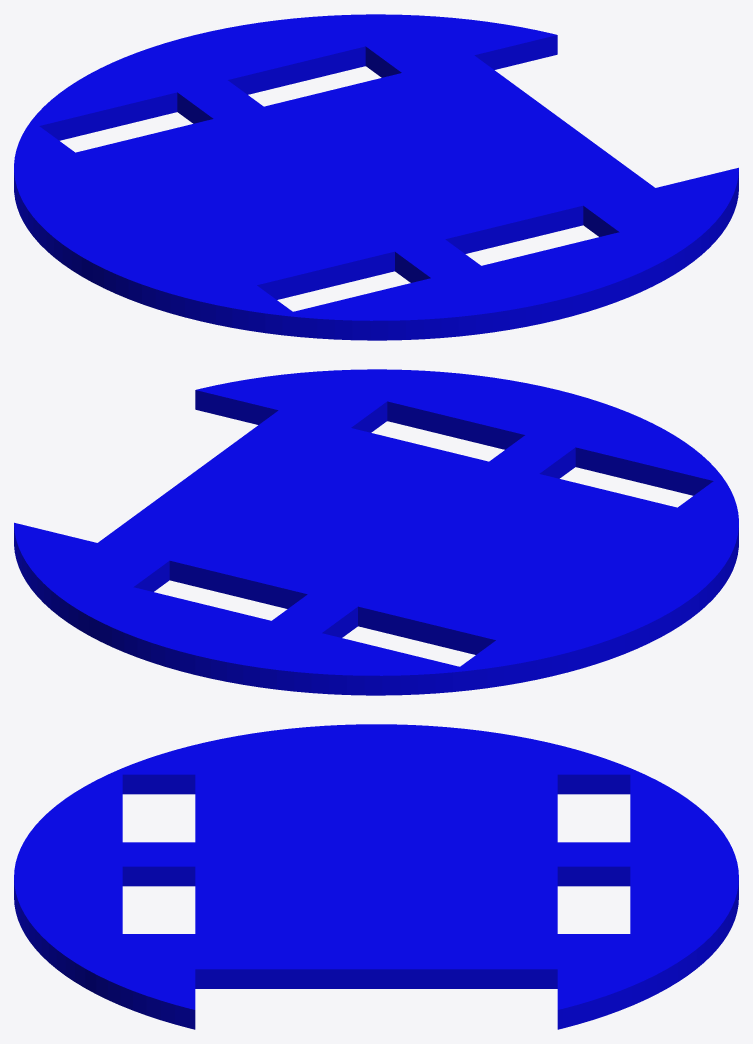
File: robot_blue.glb
The picture shows the model from 3 angles, top to bottom: view 1: azimuth 30°, elevation 25°; view 2: azimuth 150°, elevation 25°; view 3: azimuth 270°, elevation 25°; orthographic projection.
Parts seen in each view (by area): view 1: robot; view 2: robot; view 3: robot.
Part boxes in pixels (box(x1,y1,x2,y2)): robot: box(14, 14, 738, 340); robot: box(14, 369, 738, 695); robot: box(14, 724, 738, 1029).
Bounding box in the file's own units: 1.87 × 0.06 × 2.
